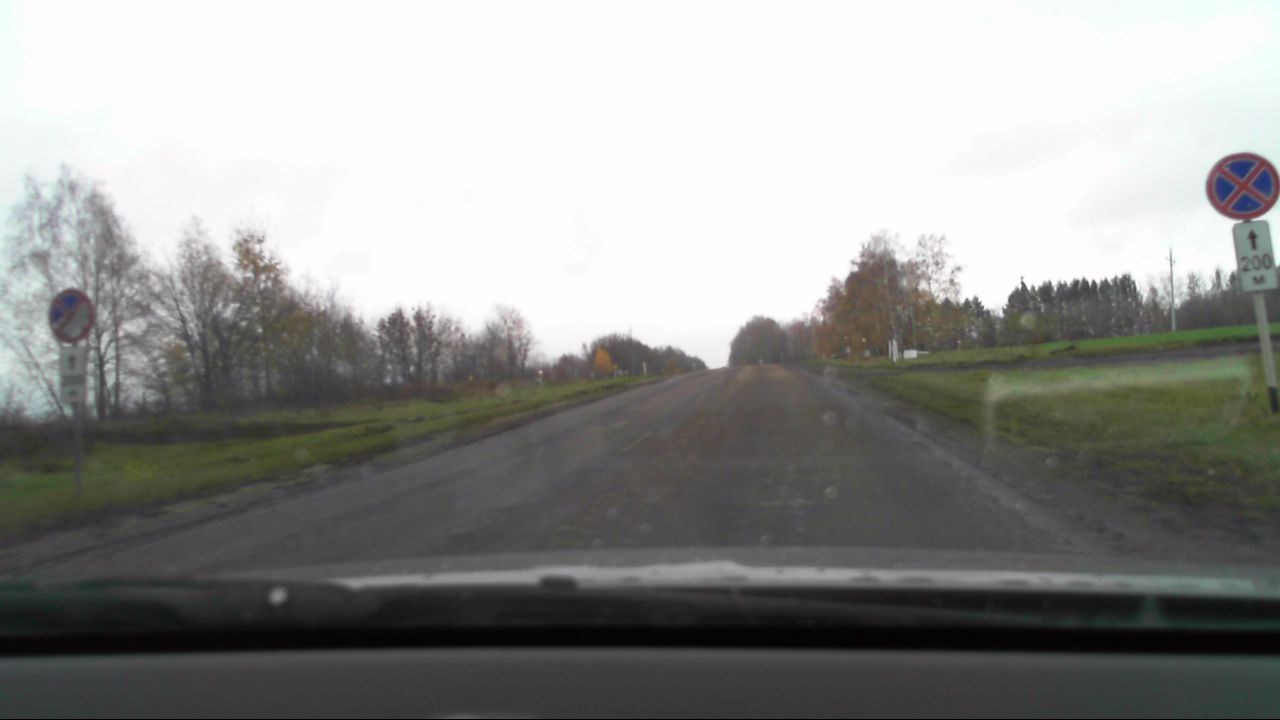No Parking: (46, 287, 97, 342)
